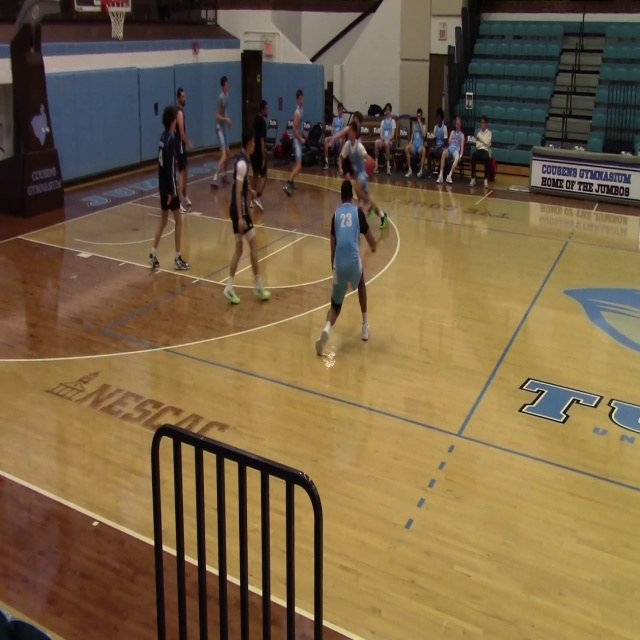Basketball: (363, 156, 376, 174)
